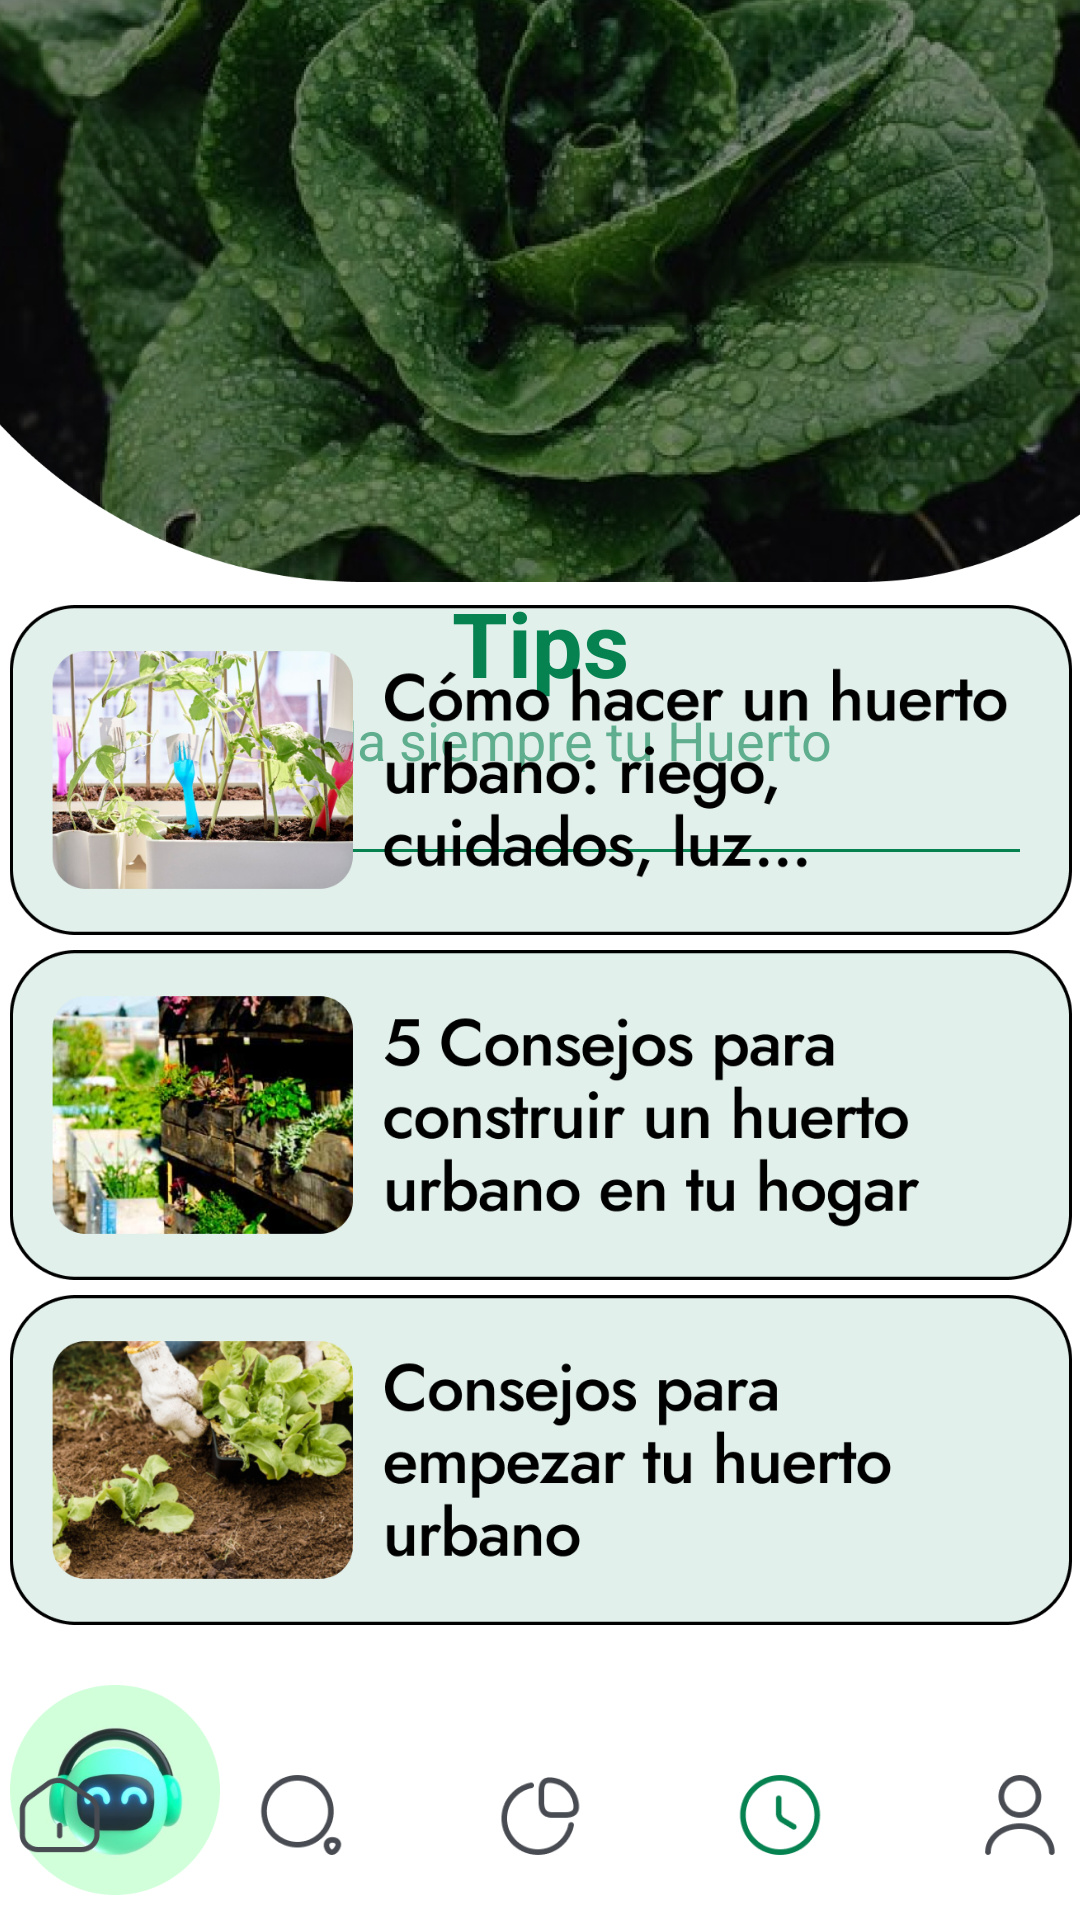

Where to tap for icons on this 1080px×1920px app screen, as point (x, y):
clockg: point (780, 1815)
graph: point (540, 1816)
search: point (301, 1815)
user: point (1020, 1815)
